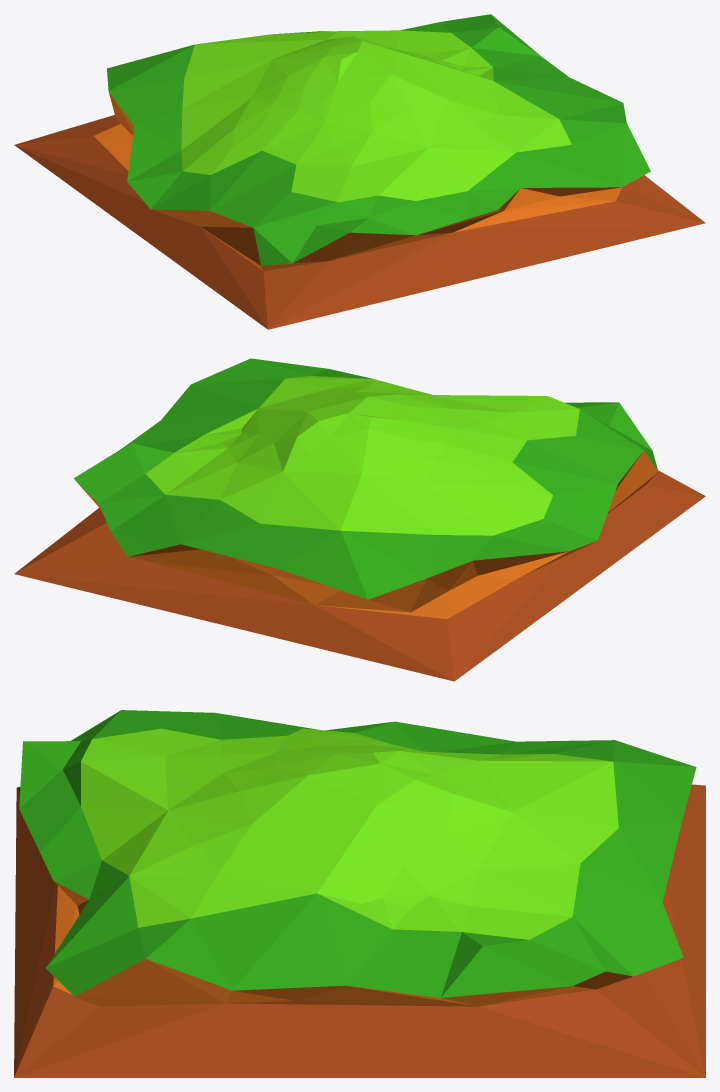
File: Pasto.fbx
3 renders of one model, top to bottom at view 1: azimuth 30°, elevation 25°; view 2: azimuth 150°, elevation 25°; view 3: azimuth 270°, elevation 25°, orthographic. The views are drawn at different scales.
Visible parts, largest first — view 1: Cube; view 2: Cube; view 3: Cube.
Part boxes in pixels (bbox=[...]): Cube: bbox=[14, 14, 705, 329]; Cube: bbox=[14, 358, 705, 681]; Cube: bbox=[14, 710, 705, 1077].
Bounding box in the file's own units: 201 × 200 × 54.92.
